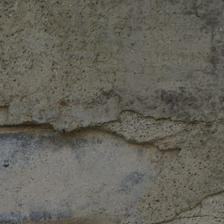Crack: (2, 111, 185, 157), (89, 106, 219, 132), (157, 188, 224, 222)
